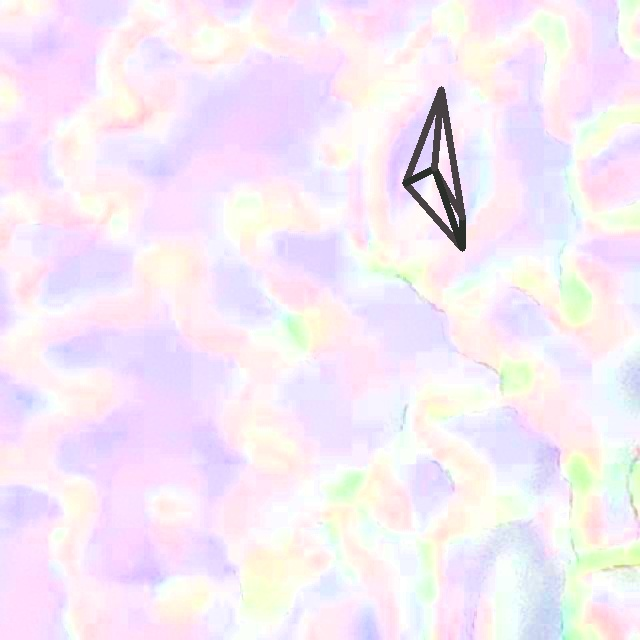open: (402, 86, 465, 251)
